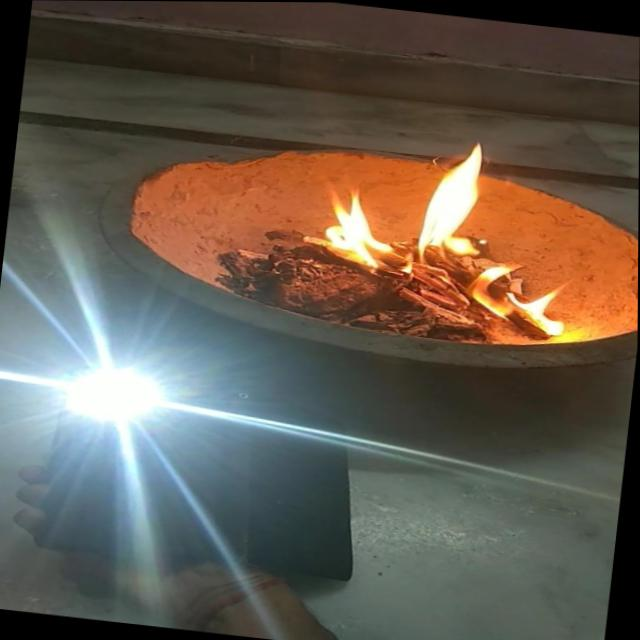fire: (286, 116, 592, 335)
